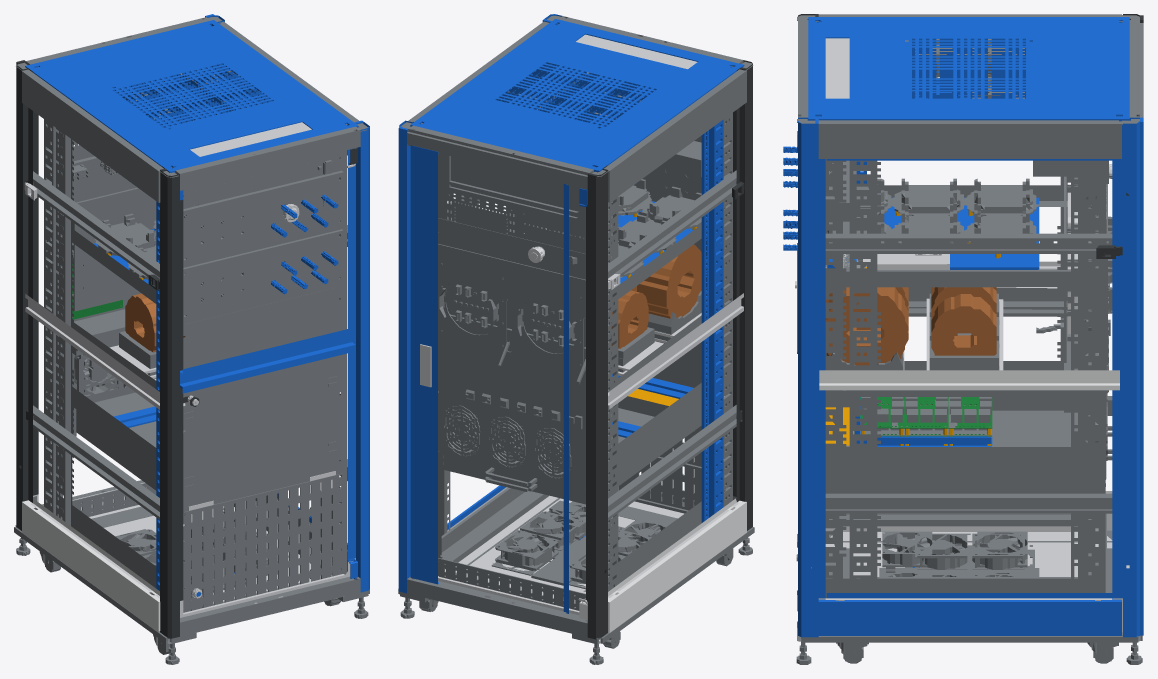
Rendered from little-blue-panels-off.glb.
The picture shows the model from 3 angles, left to right: view 1: azimuth 30°, elevation 25°; view 2: azimuth 150°, elevation 25°; view 3: azimuth 270°, elevation 25°; orthographic projection. The views are drawn at different scales.
Bounding box in the file's own units: 0.605 × 1.39 × 0.8338.
